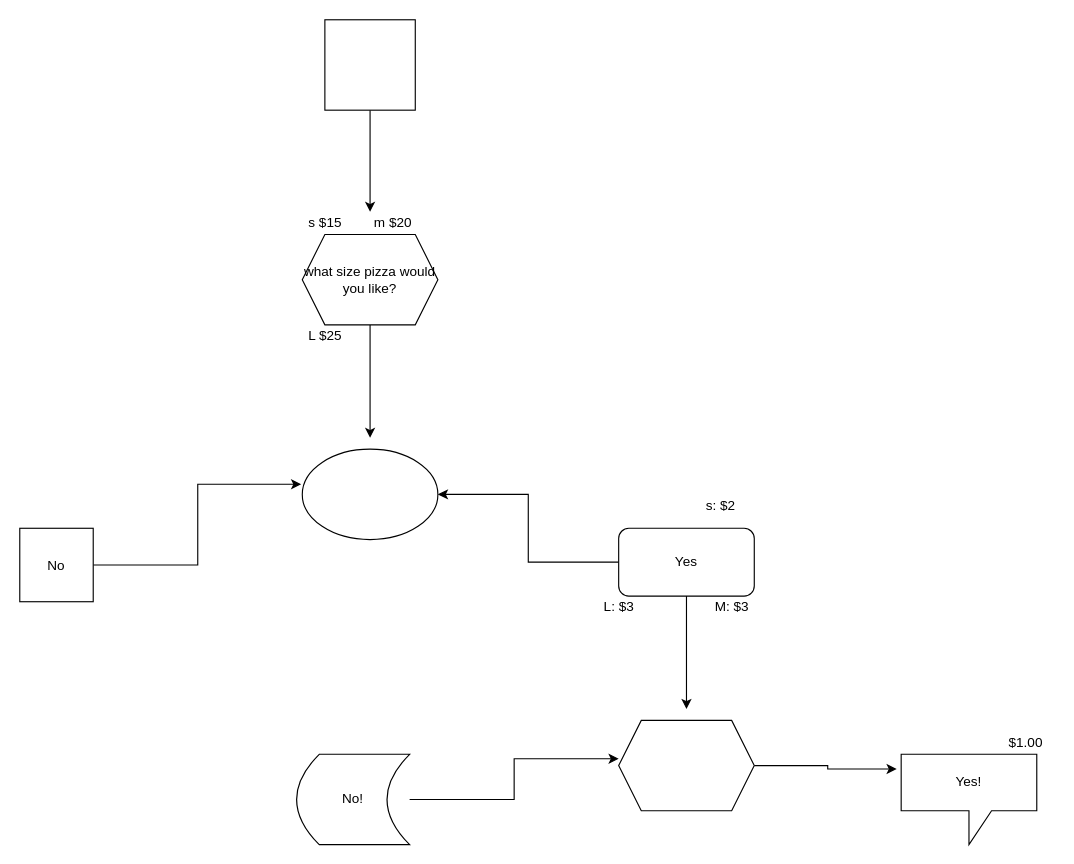
Image size: 1074x864. Some labels were removed from this diagram. The centre of each missing label's shape, as x and y in pixels:
"Do you want pepperoni Y or N?" goes at (369,494).
"Extra Cheese?" goes at (686,765).
"welcome To Python Pizza" goes at (369,64).
